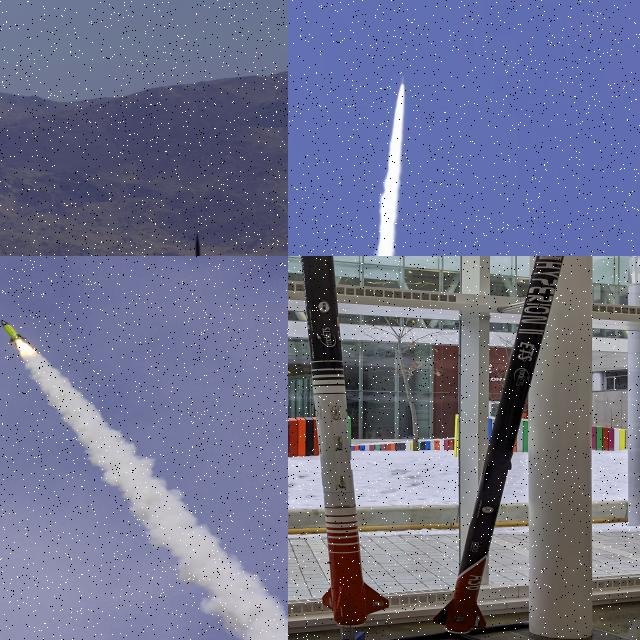Rocket: (433, 256, 564, 634), (301, 256, 389, 629), (0, 319, 27, 346), (187, 231, 208, 256), (401, 74, 405, 85)
